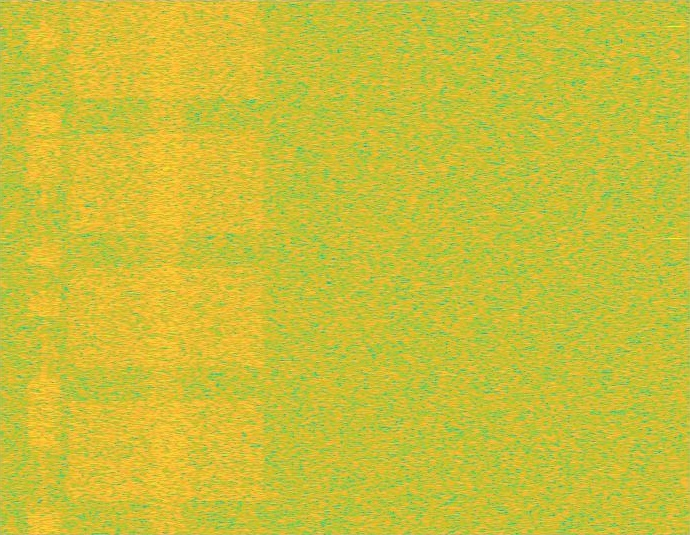5G: (63, 0, 270, 534)
DSSS: (143, 0, 190, 534), (42, 0, 46, 534)
LTE: (27, 0, 61, 534)
Radar: (668, 0, 682, 534)
